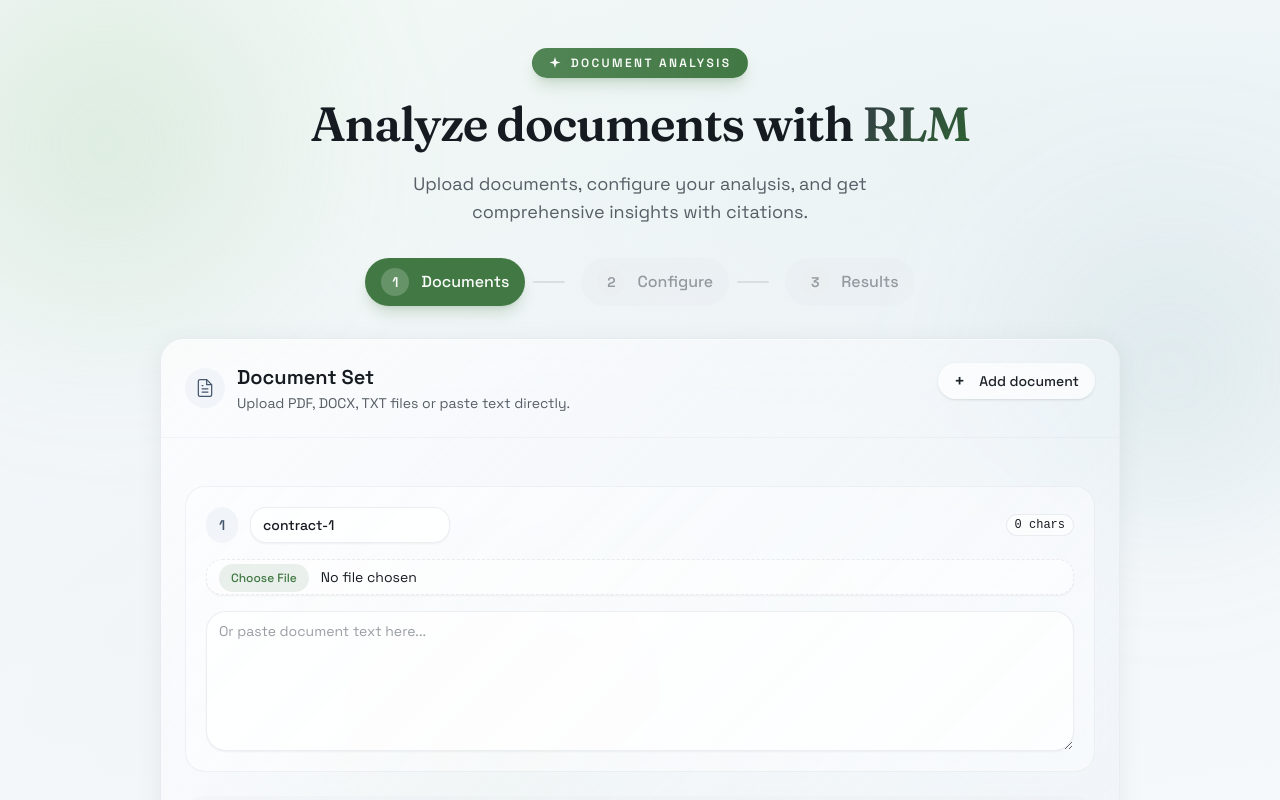
Test: Home Page › workflow navigation › should allow navigation back from configure step
Note: Navigate to configure
Type "Document content" into the text box with placeholder "Or paste document text here...". click: [640, 681]
box: [206,611,1074,751]
(page scrolled)
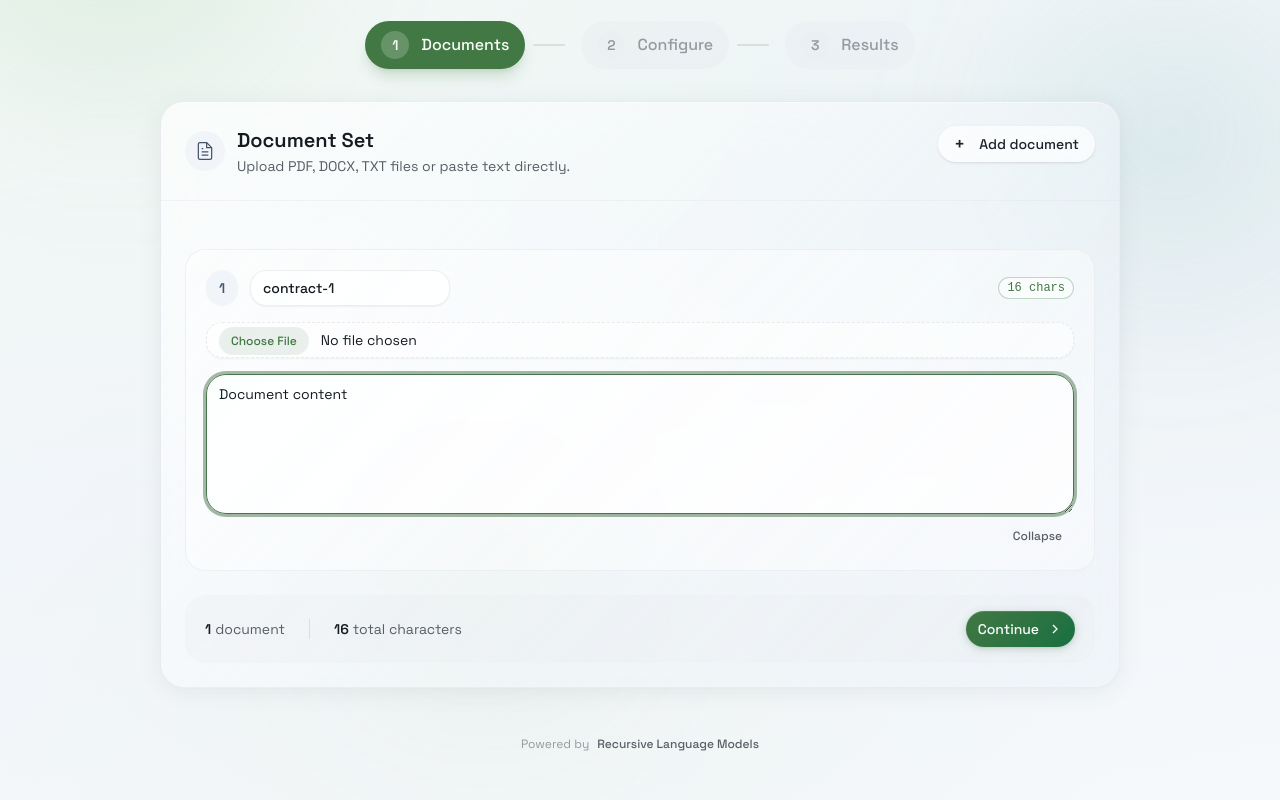
Click the button "Continue". click: [1020, 629]
box: [966,611,1075,647]
(page scrolled)
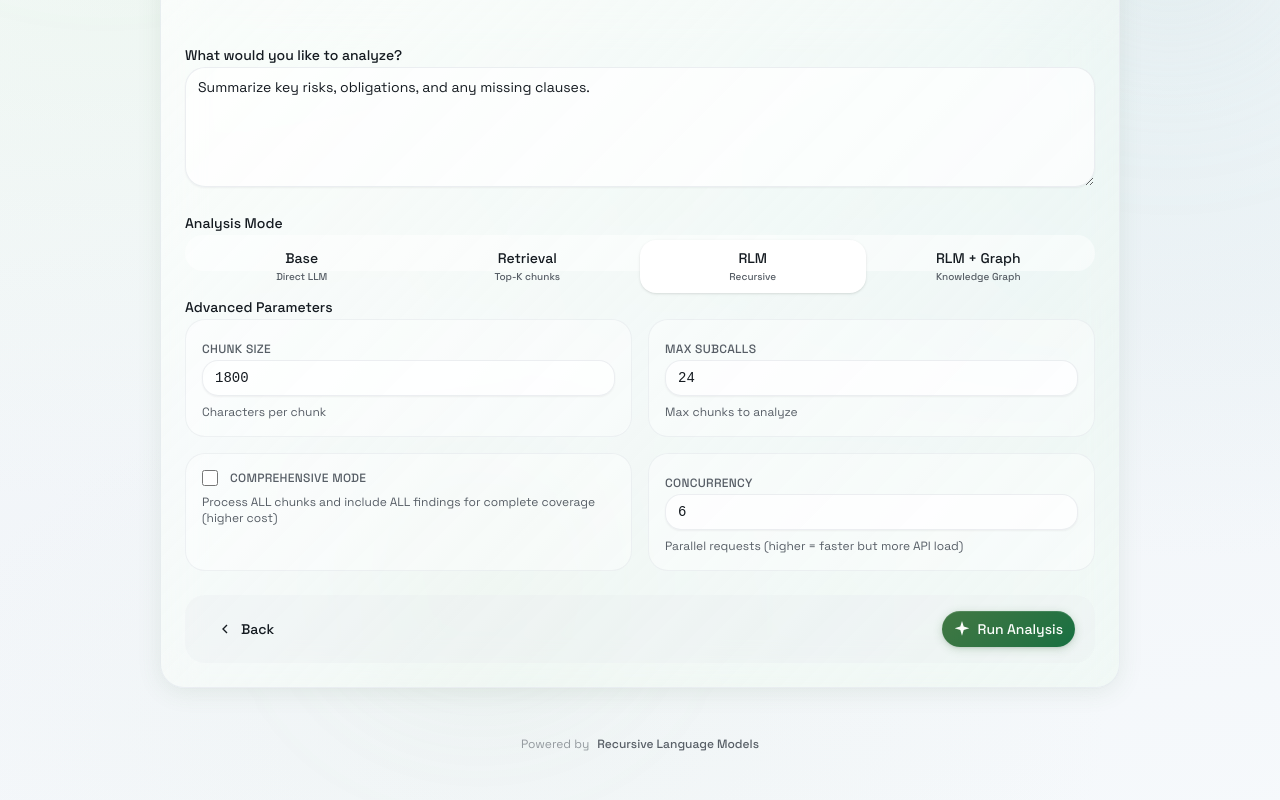
Note: Navigate back
Click the button "Back". click: [246, 629]
box: [205,611,286,647]
(page scrolled)
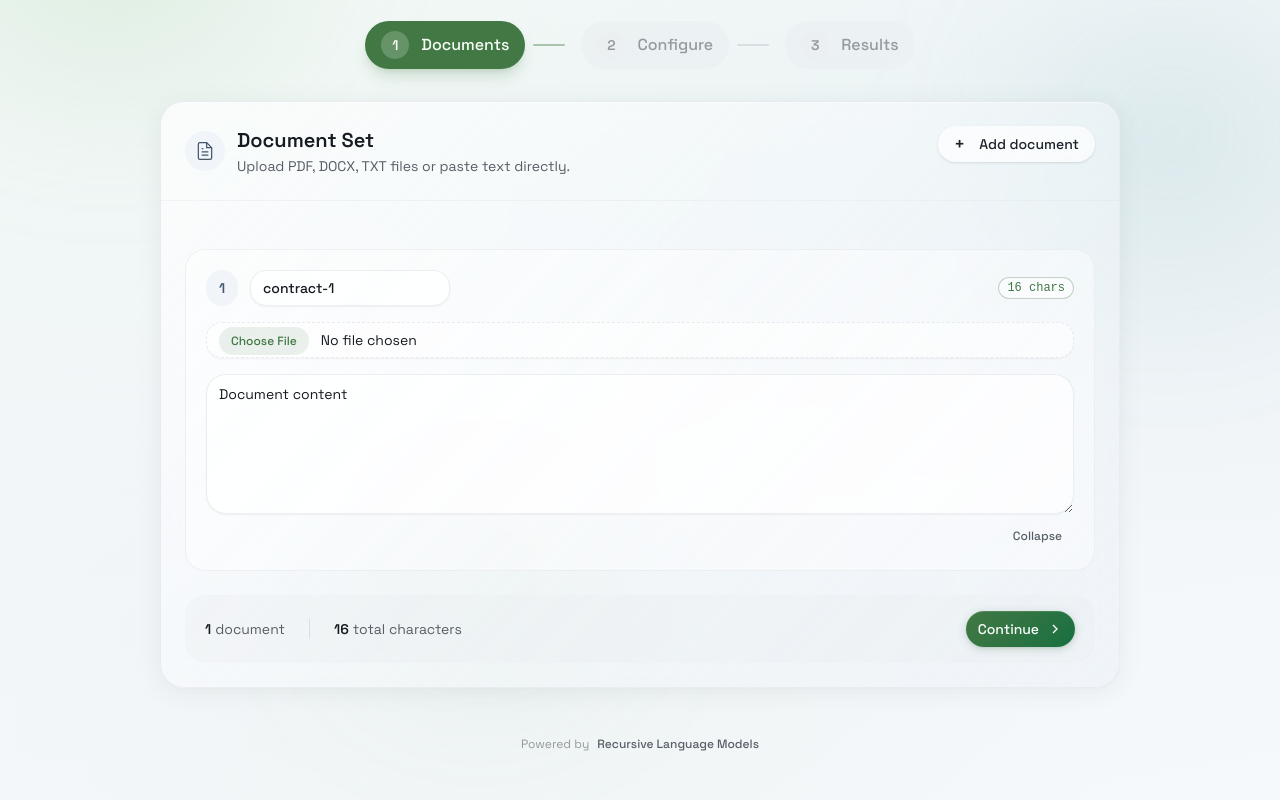
Now the text "Document Set" is shown, box [237,127,374,153]
